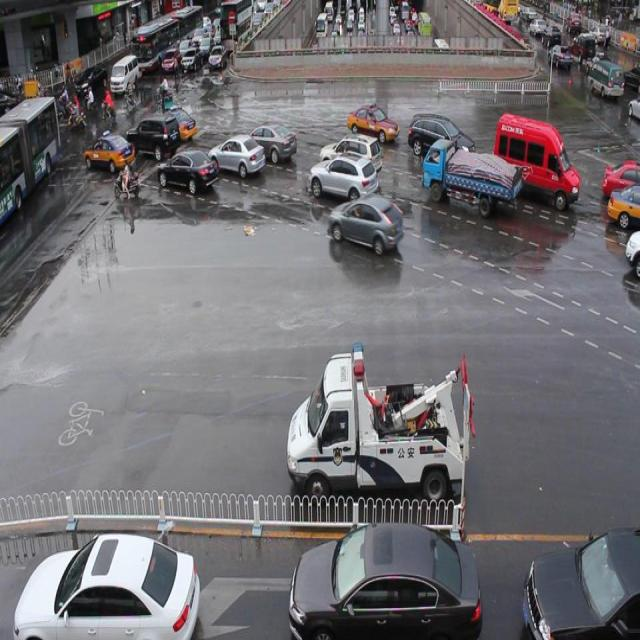bus: (288, 335, 476, 505), (422, 141, 519, 216)
car: (289, 524, 481, 640), (14, 528, 198, 640), (522, 531, 640, 640), (329, 194, 404, 254), (408, 108, 474, 160), (308, 154, 377, 203), (320, 134, 382, 180), (158, 149, 219, 191), (128, 115, 180, 160), (208, 136, 266, 176), (240, 124, 296, 163), (348, 100, 398, 136), (603, 154, 640, 197), (608, 180, 640, 227), (152, 109, 196, 142)
truck: (492, 107, 580, 202)
